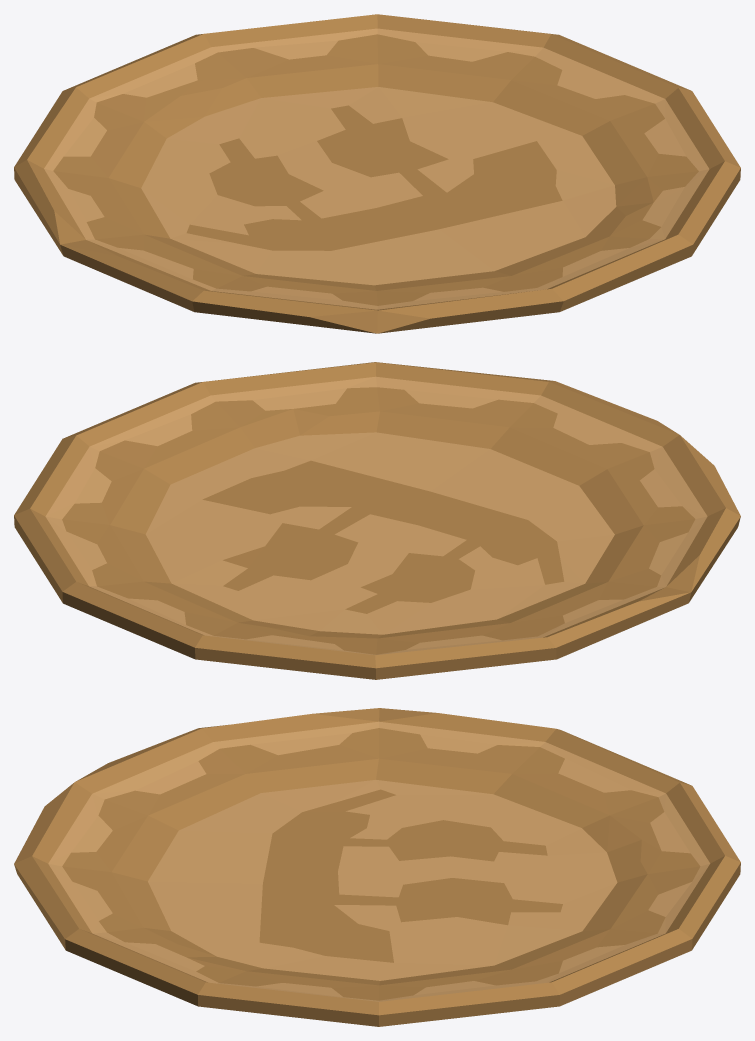
The model's file is SM_Prop_Plate_02.fbx.
The picture shows the model from 3 angles, top to bottom: view 1: azimuth 30°, elevation 25°; view 2: azimuth 150°, elevation 25°; view 3: azimuth 270°, elevation 25°; orthographic projection.
Visible parts, largest first — view 1: SM_Prop_Plate_02; view 2: SM_Prop_Plate_02; view 3: SM_Prop_Plate_02.
Part boxes in pixels (bbox=[...]): SM_Prop_Plate_02: bbox=[14, 14, 740, 333]; SM_Prop_Plate_02: bbox=[14, 362, 740, 679]; SM_Prop_Plate_02: bbox=[14, 708, 740, 1026].
Bounding box in the file's own units: 40.7 × 2.86 × 40.72.
